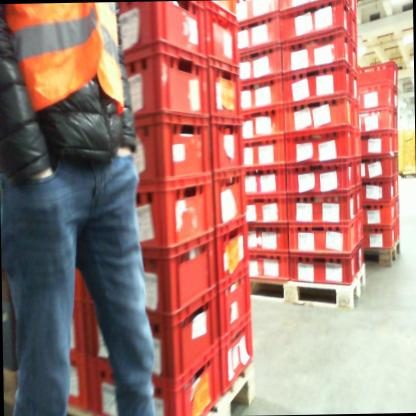pallet: (3, 353, 260, 416), (246, 261, 369, 313), (361, 237, 404, 268)
small_load_carrier: (79, 226, 219, 320), (87, 287, 218, 387), (84, 169, 217, 262), (86, 342, 218, 416), (113, 33, 211, 126), (122, 106, 209, 192), (111, 1, 207, 60), (285, 240, 361, 287), (278, 0, 350, 49), (284, 60, 350, 110), (215, 269, 258, 345), (287, 220, 361, 261), (218, 314, 257, 391), (282, 186, 356, 225), (281, 29, 352, 69), (287, 157, 356, 197), (285, 126, 354, 165), (206, 1, 239, 79), (213, 165, 249, 235), (284, 95, 354, 131), (213, 215, 251, 281), (63, 335, 94, 415), (240, 42, 284, 91), (241, 69, 285, 118), (210, 57, 241, 126), (210, 113, 245, 173), (241, 130, 285, 174), (239, 10, 281, 54), (60, 294, 88, 357), (240, 103, 285, 141), (246, 226, 288, 264), (243, 162, 285, 198), (247, 250, 290, 285), (357, 73, 394, 113), (244, 191, 285, 224), (68, 251, 89, 311), (279, 0, 349, 18), (238, 0, 280, 29), (360, 127, 395, 160), (359, 196, 396, 227), (358, 61, 397, 89), (361, 218, 397, 248), (358, 176, 396, 204), (360, 152, 395, 181), (360, 104, 393, 134), (350, 67, 361, 109), (351, 98, 360, 134), (350, 39, 359, 73), (355, 208, 364, 242), (353, 158, 362, 191), (350, 12, 358, 47), (352, 128, 361, 159), (354, 181, 360, 218), (357, 241, 364, 271), (393, 217, 401, 243), (394, 196, 401, 225), (393, 153, 401, 178), (393, 174, 401, 196), (351, 0, 358, 20), (394, 130, 400, 153), (392, 85, 398, 108), (393, 107, 398, 130)
